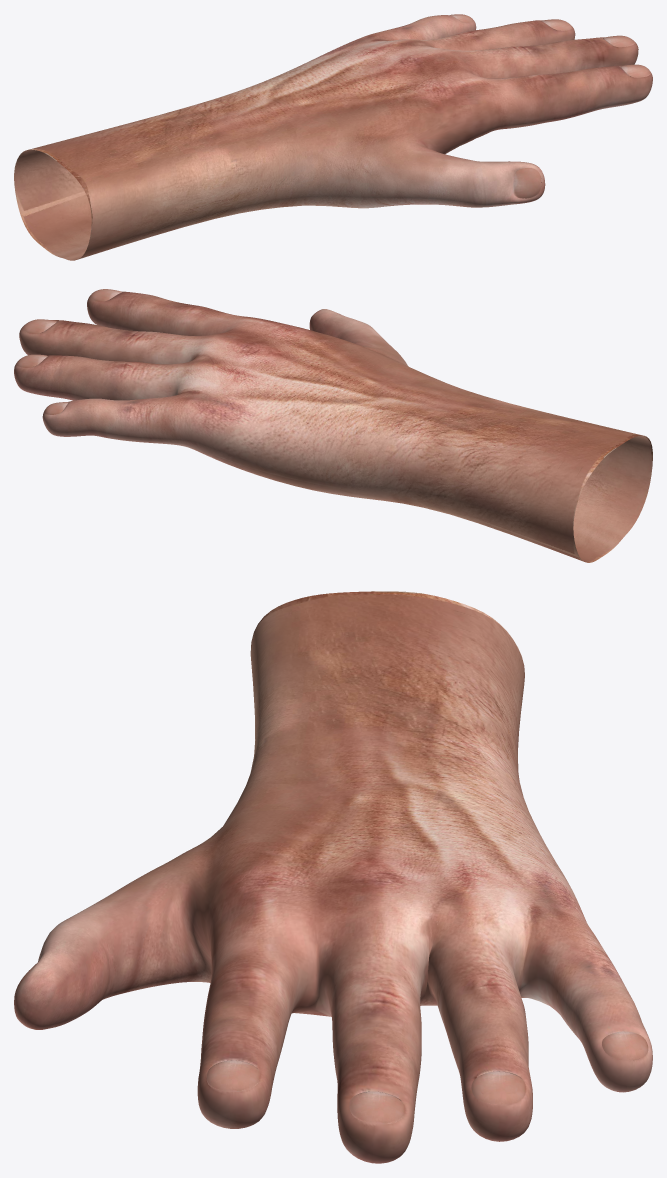
Rendered from Hand_v.5_for_export_L.fbx.
3 renders of one model, top to bottom at view 1: azimuth 30°, elevation 25°; view 2: azimuth 150°, elevation 25°; view 3: azimuth 270°, elevation 25°, orthographic. The views are drawn at different scales.
Parts seen in each view (by area): view 1: Cube.005; view 2: Cube.005; view 3: Cube.005.
Part boxes in pixels (x1=…): Cube.005: x1=14, y1=14, x2=652, y2=260; Cube.005: x1=14, y1=289, x2=652, y2=562; Cube.005: x1=14, y1=591, x2=652, y2=1163.
Size of the model in its own units: 25.63 by 4.63 by 13.84.
1 material, 1 textured.
